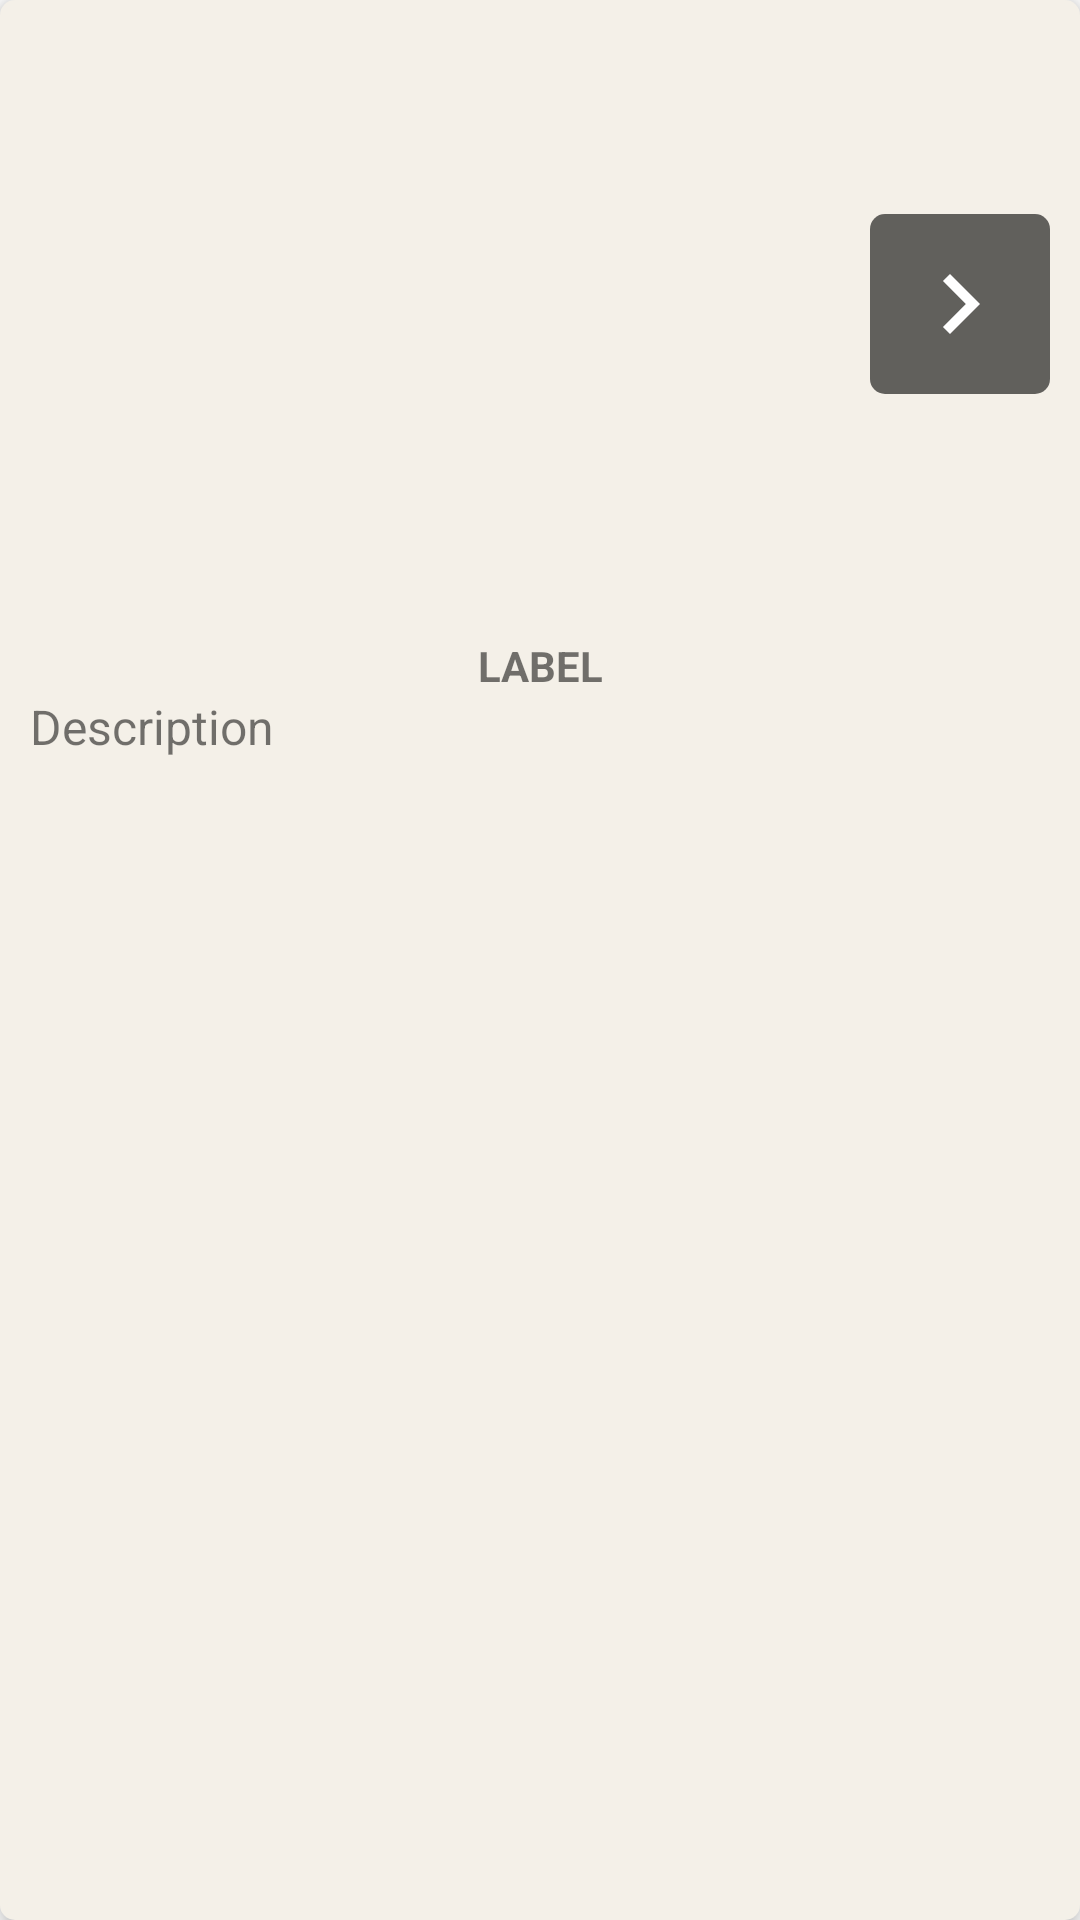

Icon bounding boxes for this 1080×1920 phone screenshot, format (x1, y1, x2, y2):
chevron right: (870, 214, 1050, 394)
